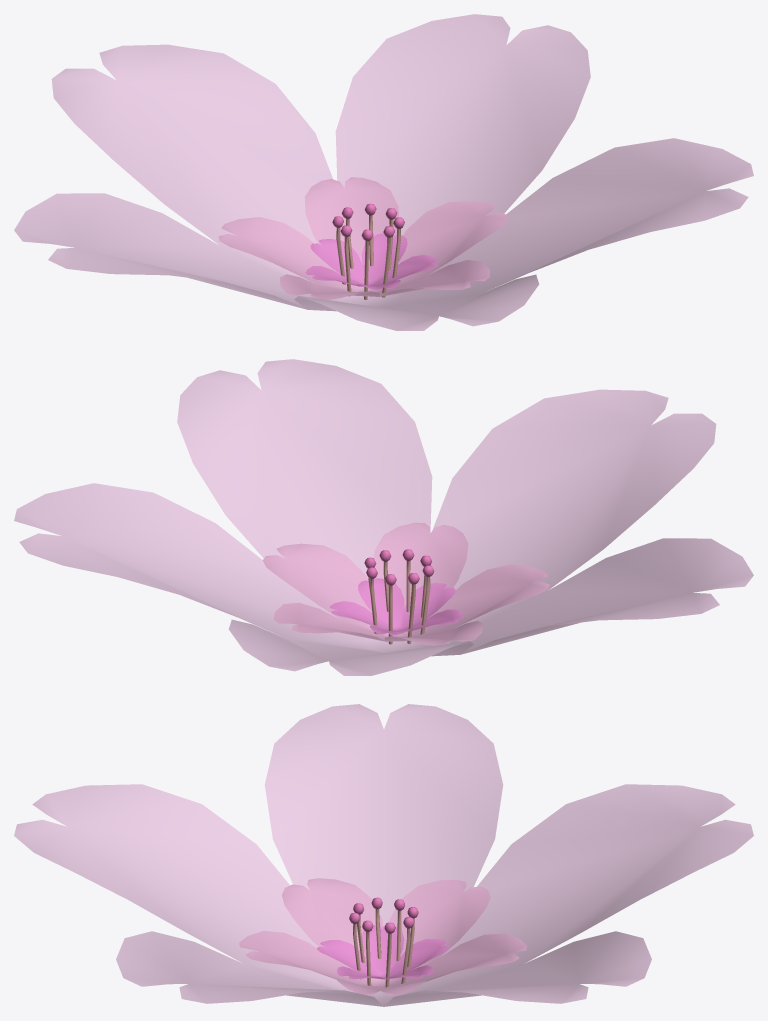
Rendered from flower.glb.
The picture shows the model from 3 angles, top to bottom: view 1: azimuth 30°, elevation 25°; view 2: azimuth 150°, elevation 25°; view 3: azimuth 270°, elevation 25°; orthographic projection.
Visible parts, largest first — view 1: KyodaiSakuraHana; view 2: KyodaiSakuraHana; view 3: KyodaiSakuraHana.
Part boxes in pixels (box(x1,y1,x2,y2)): KyodaiSakuraHana: box(14, 14, 753, 330); KyodaiSakuraHana: box(14, 359, 753, 675); KyodaiSakuraHana: box(14, 704, 753, 1006).
Bounding box in the file's own units: 1.24 × 0.2396 × 1.3.
1 material, 1 textured.
